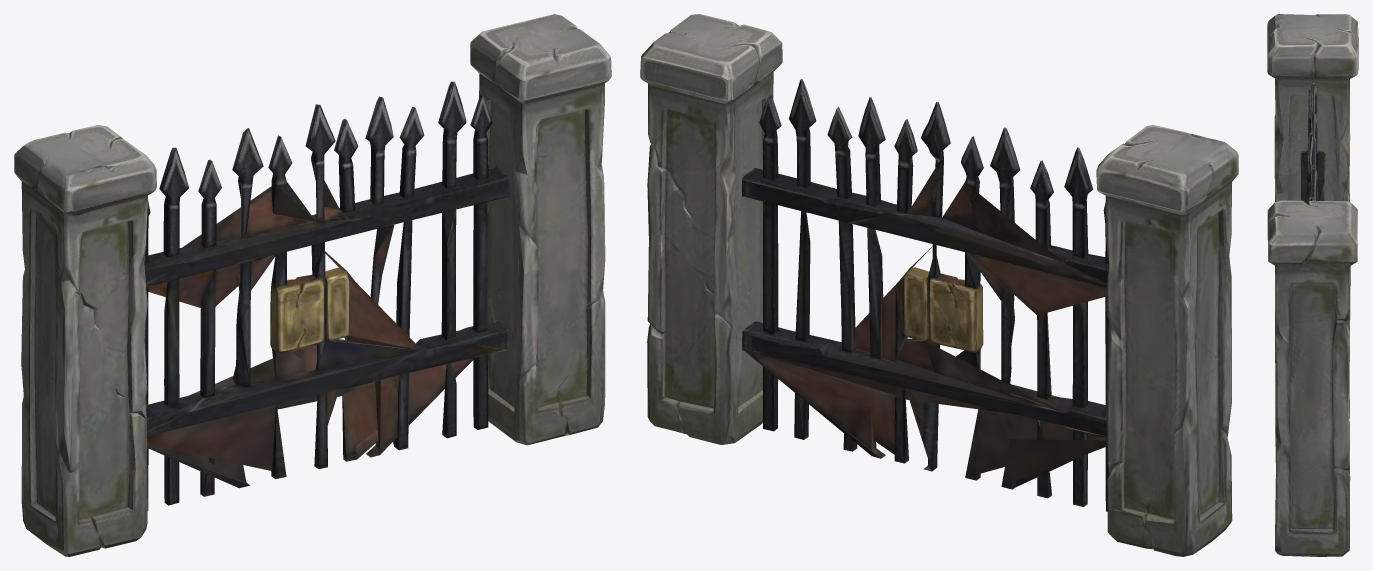
File: gate_3d.glb
The picture shows the model from 3 angles, left to right: view 1: azimuth 30°, elevation 25°; view 2: azimuth 150°, elevation 25°; view 3: azimuth 270°, elevation 25°; orthographic projection. The views are drawn at different scales.
Parts seen in each view (by area): view 1: Mesh_0; view 2: Mesh_0; view 3: Mesh_0.
Boxes of the visible parts, <box> form: Mesh_0: <box>14,14,611,556</box>; Mesh_0: <box>640,14,1238,556</box>; Mesh_0: <box>1267,14,1358,556</box>.
Size of the model in its own units: 1.25 by 0.8393 by 0.2139.
1 material, 1 textured.
